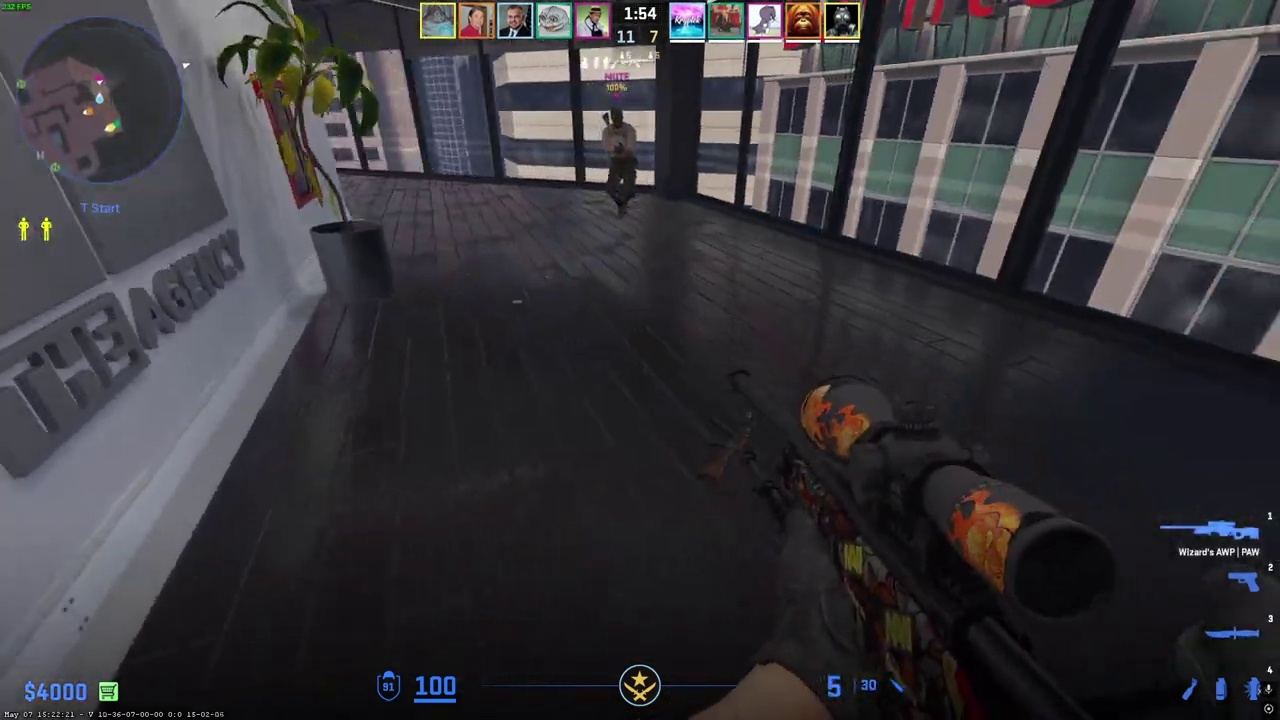Terrorist: (601, 107, 640, 218)
